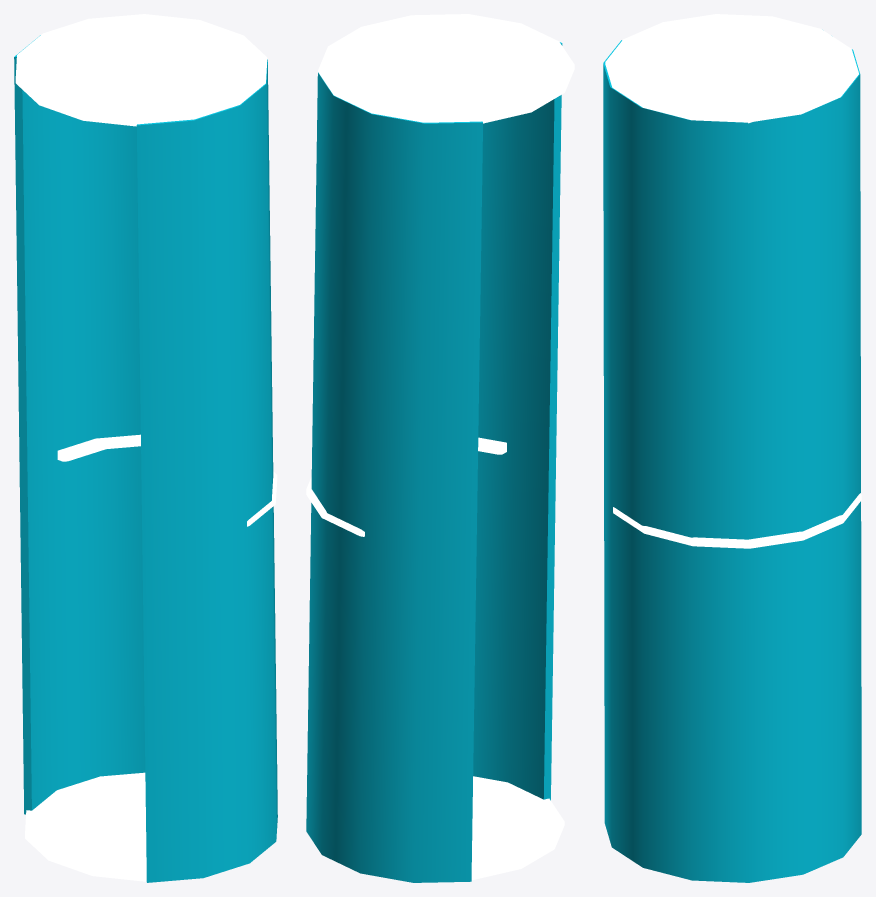
The model's file is Ascensor_cabina.glb.
The picture shows the model from 3 angles, left to right: view 1: azimuth 30°, elevation 25°; view 2: azimuth 150°, elevation 25°; view 3: azimuth 270°, elevation 25°; orthographic projection.
Parts seen in each view (by area): view 1: Ascensor_Export:Cuerpo_CabinaA; view 2: Ascensor_Export:Cuerpo_CabinaA; view 3: Ascensor_Export:Cuerpo_CabinaA.
Boxes of the visible parts, bbox=[...] form: Ascensor_Export:Cuerpo_CabinaA: bbox=[14, 14, 277, 882]; Ascensor_Export:Cuerpo_CabinaA: bbox=[306, 14, 574, 882]; Ascensor_Export:Cuerpo_CabinaA: bbox=[603, 14, 861, 882].
Bounding box in the file's own units: 0.0605 × 0.1904 × 0.059.
